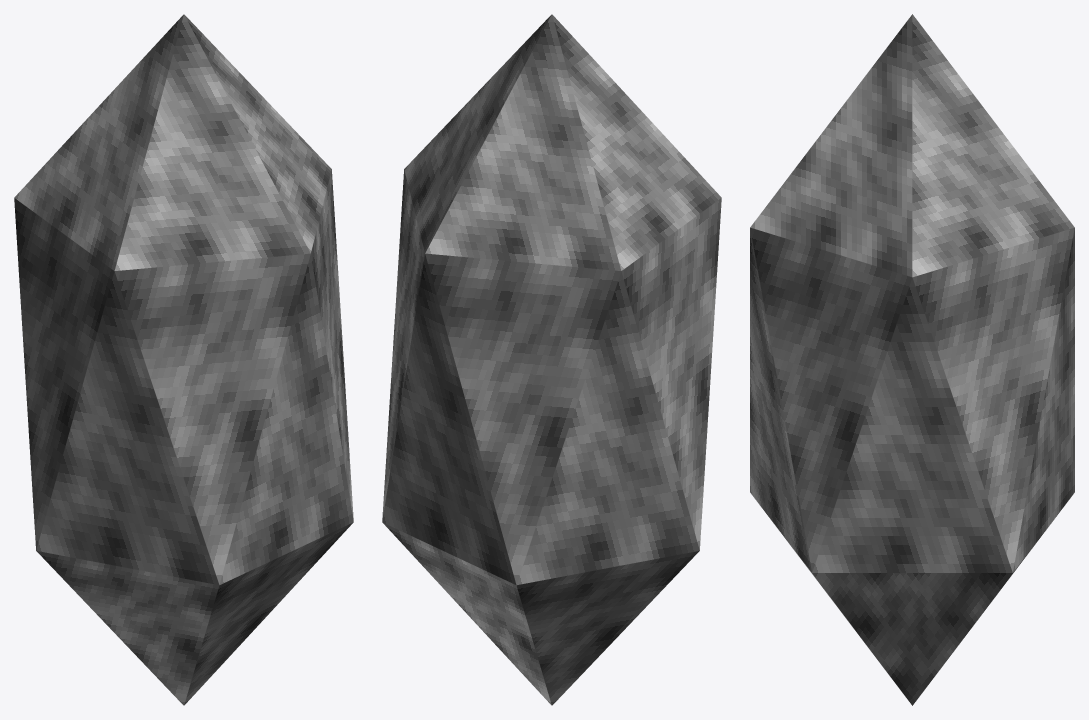
The model's file is icosahedron.obj.
3 views of the same model, side by side, from view 1: azimuth 30°, elevation 25°; view 2: azimuth 150°, elevation 25°; view 3: azimuth 270°, elevation 25° (orthographic).
Bounding box in the file's own units: 0.2993 × 0.6693 × 0.2847.
